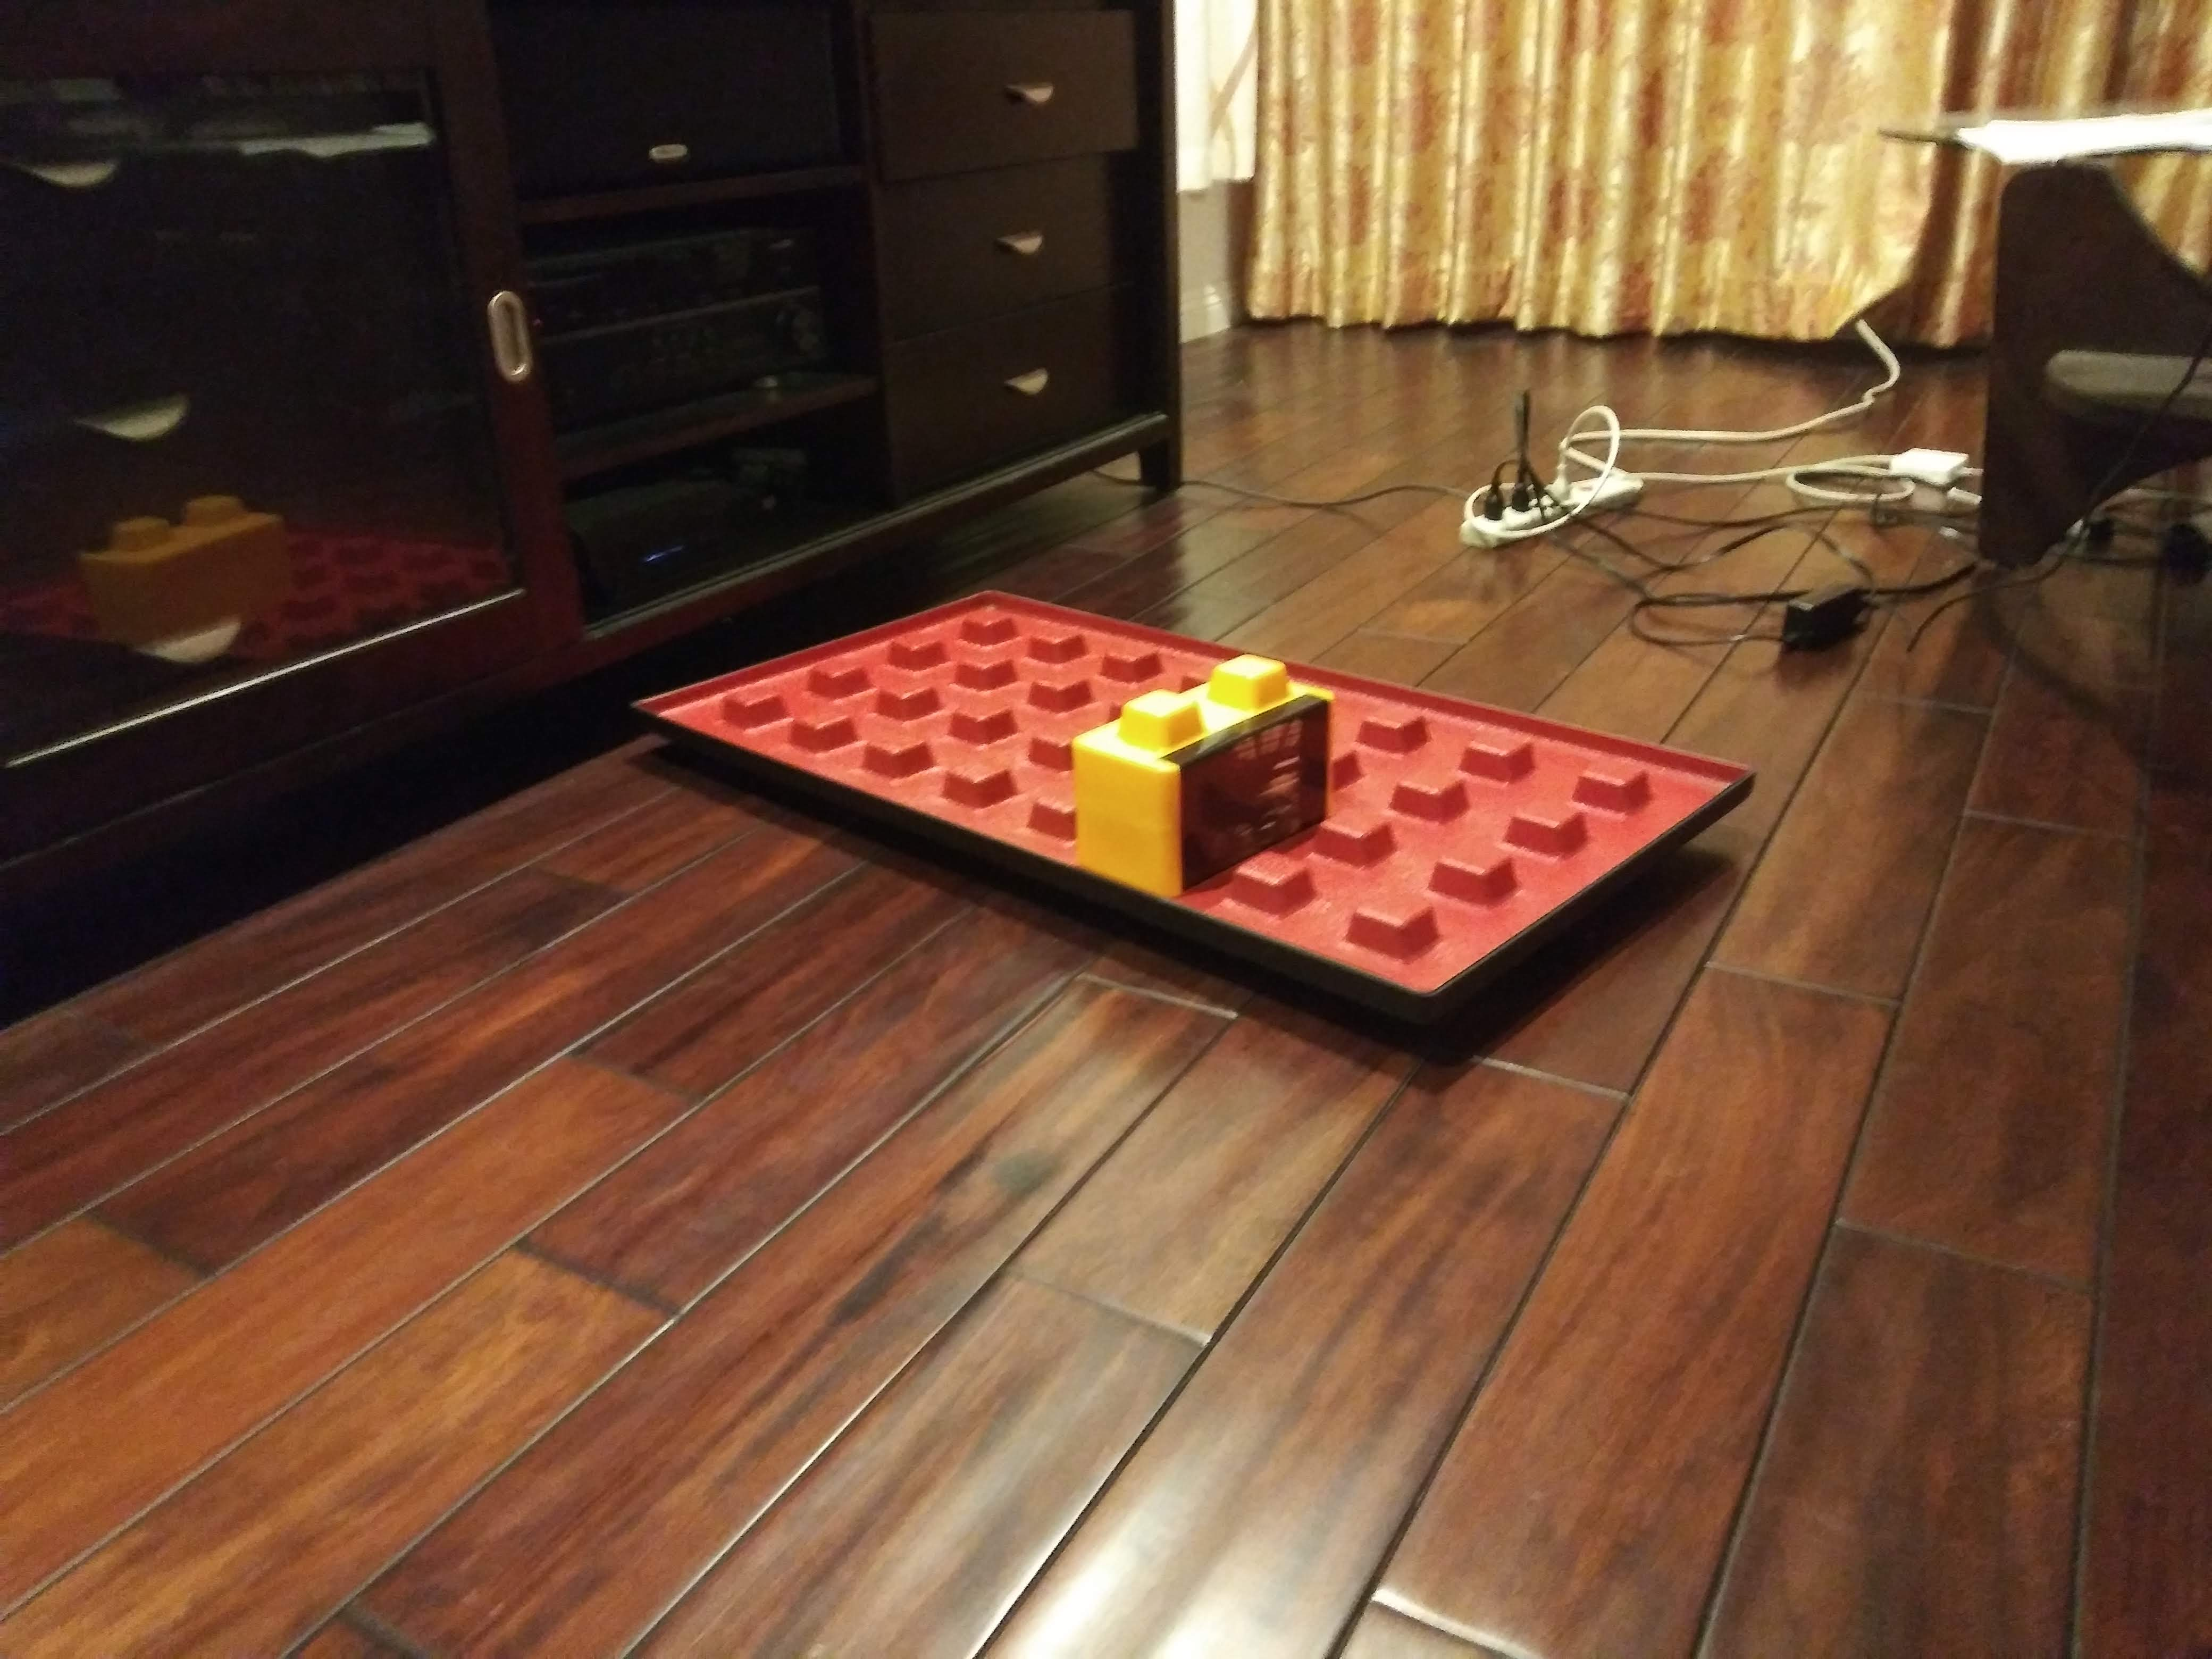red foundation: (615, 563, 1752, 1028)
